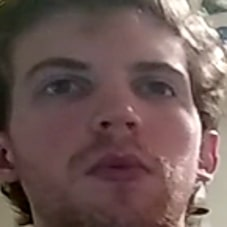awake: (22, 46, 193, 195)
